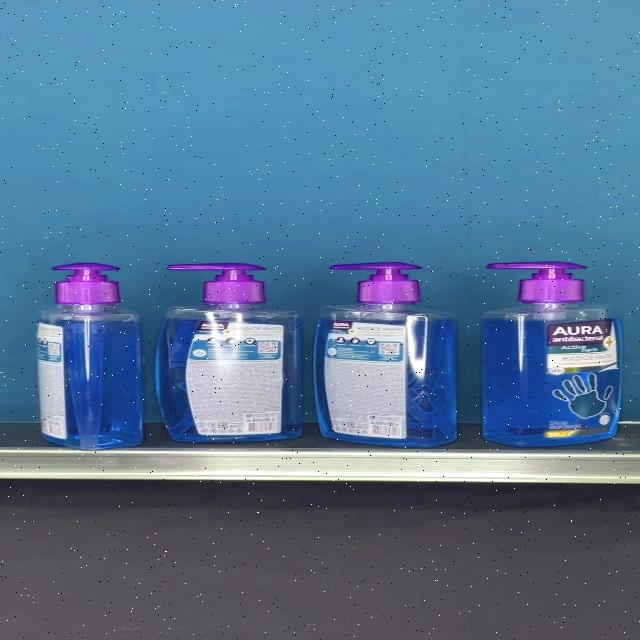Bottle: (314, 262, 458, 448), (482, 260, 622, 447), (156, 263, 302, 442), (37, 262, 143, 450)
Cap: (486, 260, 587, 302), (168, 263, 263, 304), (331, 262, 423, 304), (54, 263, 122, 304)
